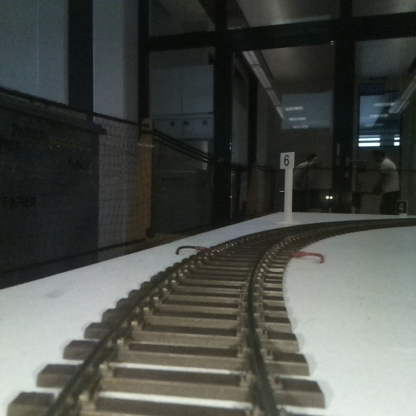white-info-6: (280, 152, 294, 224)
